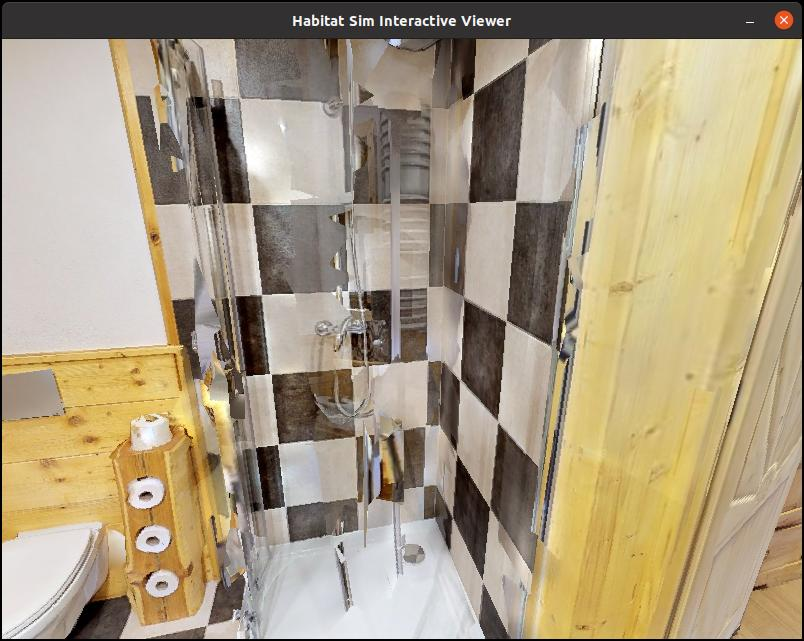shower: (217, 0, 605, 641)
toilet: (0, 500, 123, 641)
